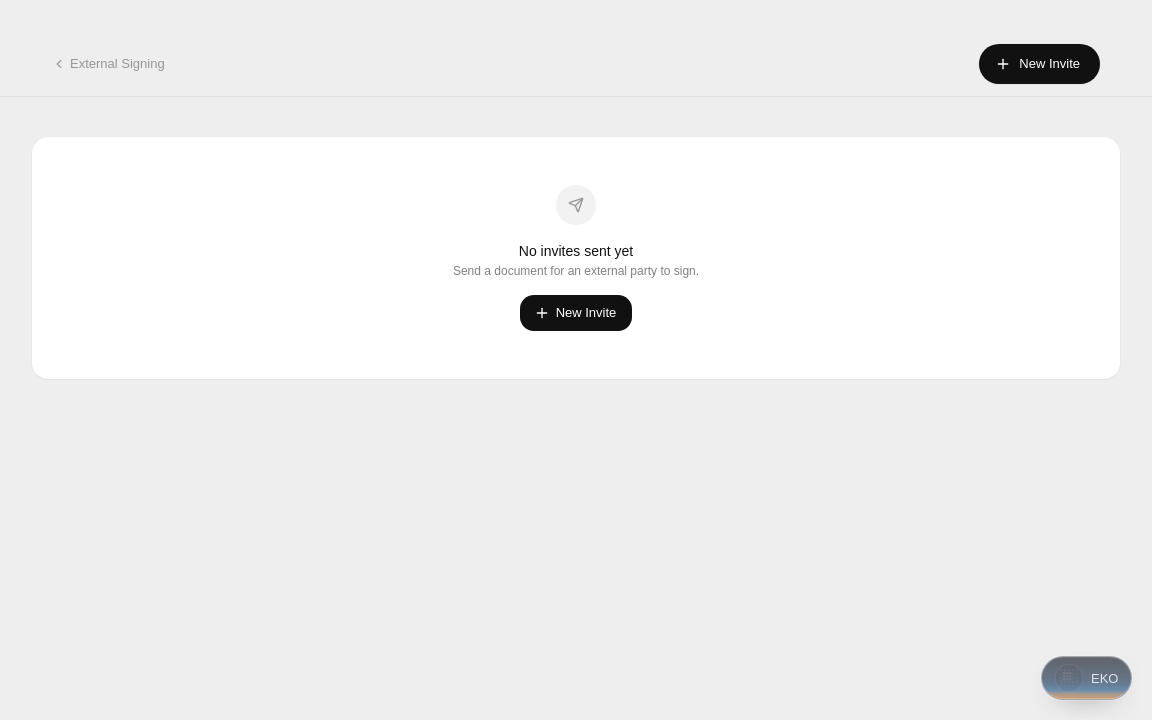
Scenario: ExternalSigningAdminRouteContent › renders the redesigned composition (drill-in chrome, table-first, composer in a dialog)
Expected: the text "External Signing" is shown, [70, 54, 165, 74]
Expected: the text "No invites sent yet" is shown, [519, 243, 633, 259]
Click the button "New Invite" in the row of "External Signing" at (1040, 64), box [979, 44, 1100, 84]
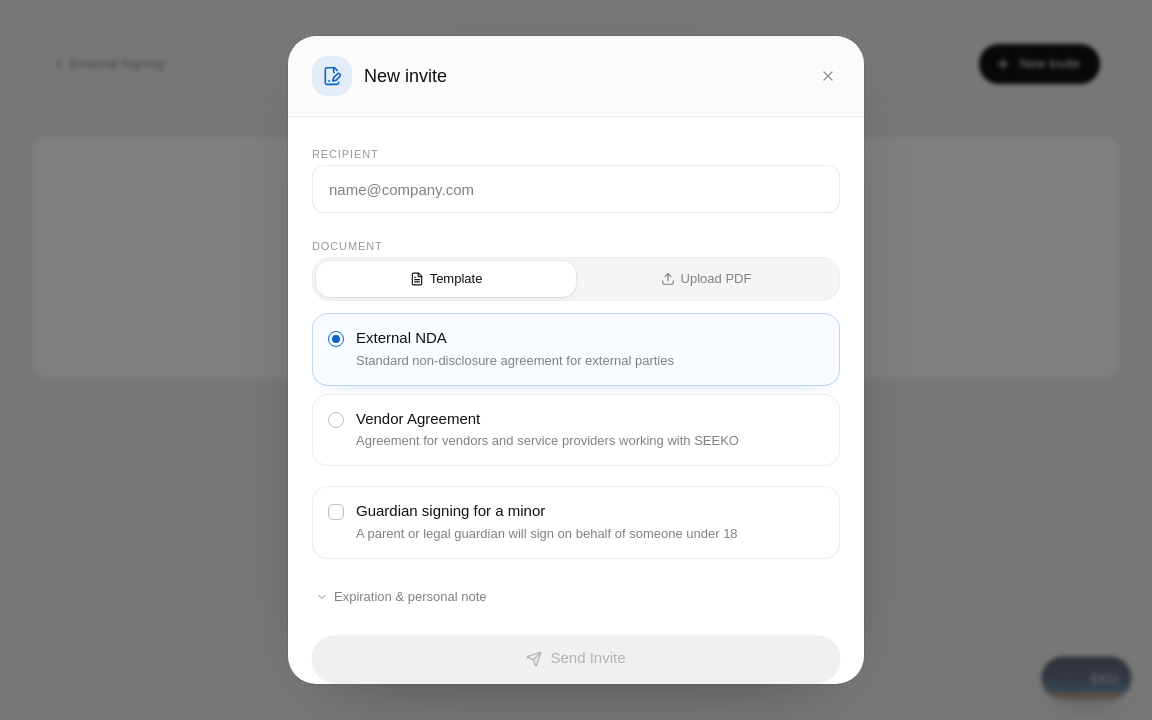
Now the dialog "New invite" is shown, box [288, 36, 864, 684]
Now the field with placeholder "name@company.com" is shown, box [312, 165, 840, 213]
